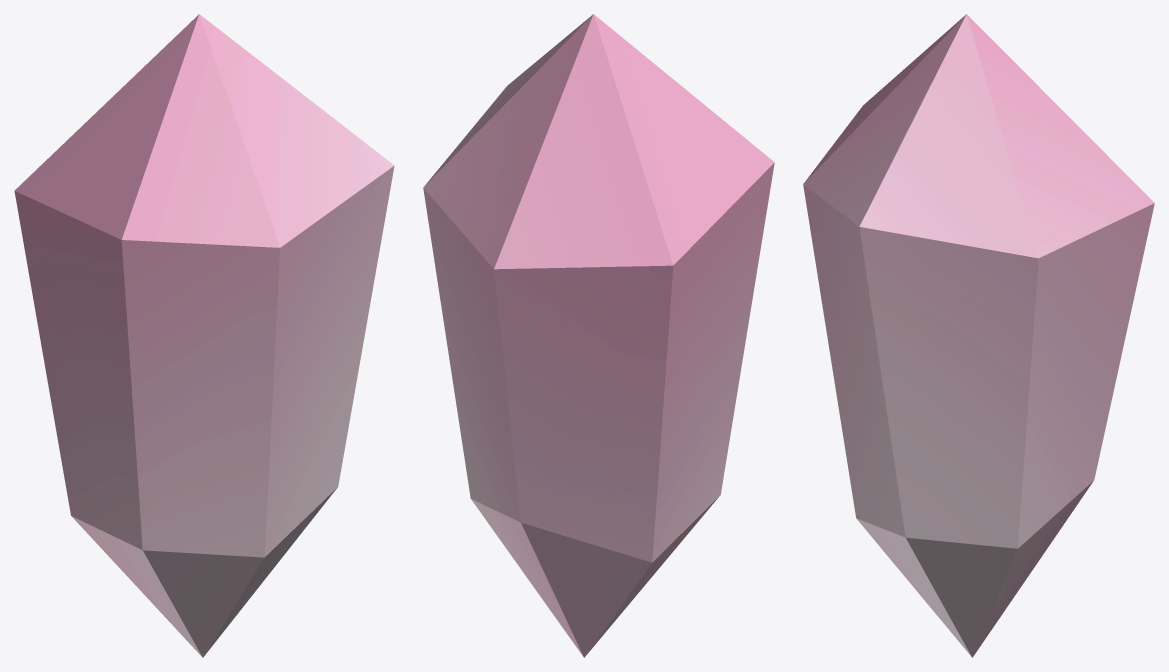
File: quartz.glb
3 renders of one model, left to right at view 1: azimuth 30°, elevation 25°; view 2: azimuth 150°, elevation 25°; view 3: azimuth 270°, elevation 25°, orthographic.
Parts seen in each view (by area): view 1: SM_Quartz_Gem2; view 2: SM_Quartz_Gem2; view 3: SM_Quartz_Gem2.
Boxes of the visible parts, x1,y1,x2,y2 form: SM_Quartz_Gem2: (14,14,394,657); SM_Quartz_Gem2: (423,14,774,657); SM_Quartz_Gem2: (803,14,1154,657).
Bounding box in the file's own units: 0.2175 × 0.4921 × 0.2448.
1 material, 1 textured.
